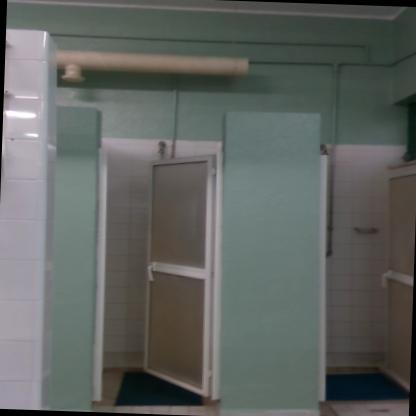open: (34, 101, 246, 416)
